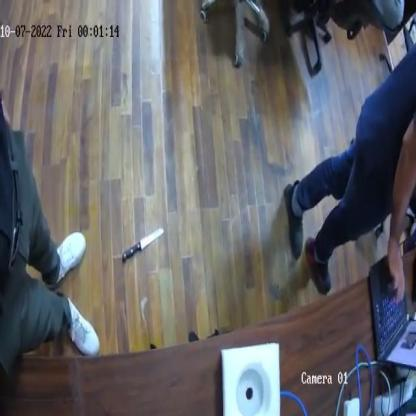Knife: (122, 225, 166, 267)
